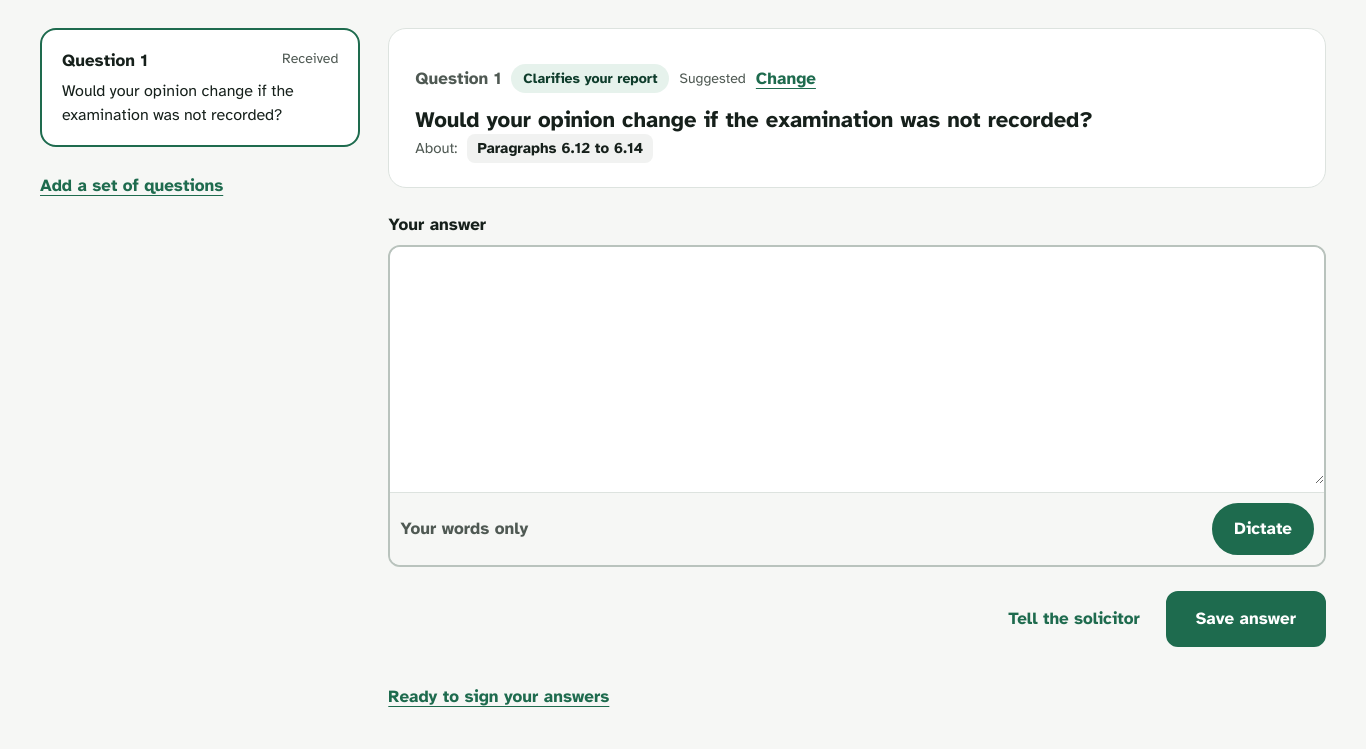
Scenario: when someone else changed the answer first, it asks which version to keep
(page scrolled)
Type "Mine" into the text box labelled "Your answer" at [857, 366], box [390,248,1324,484]
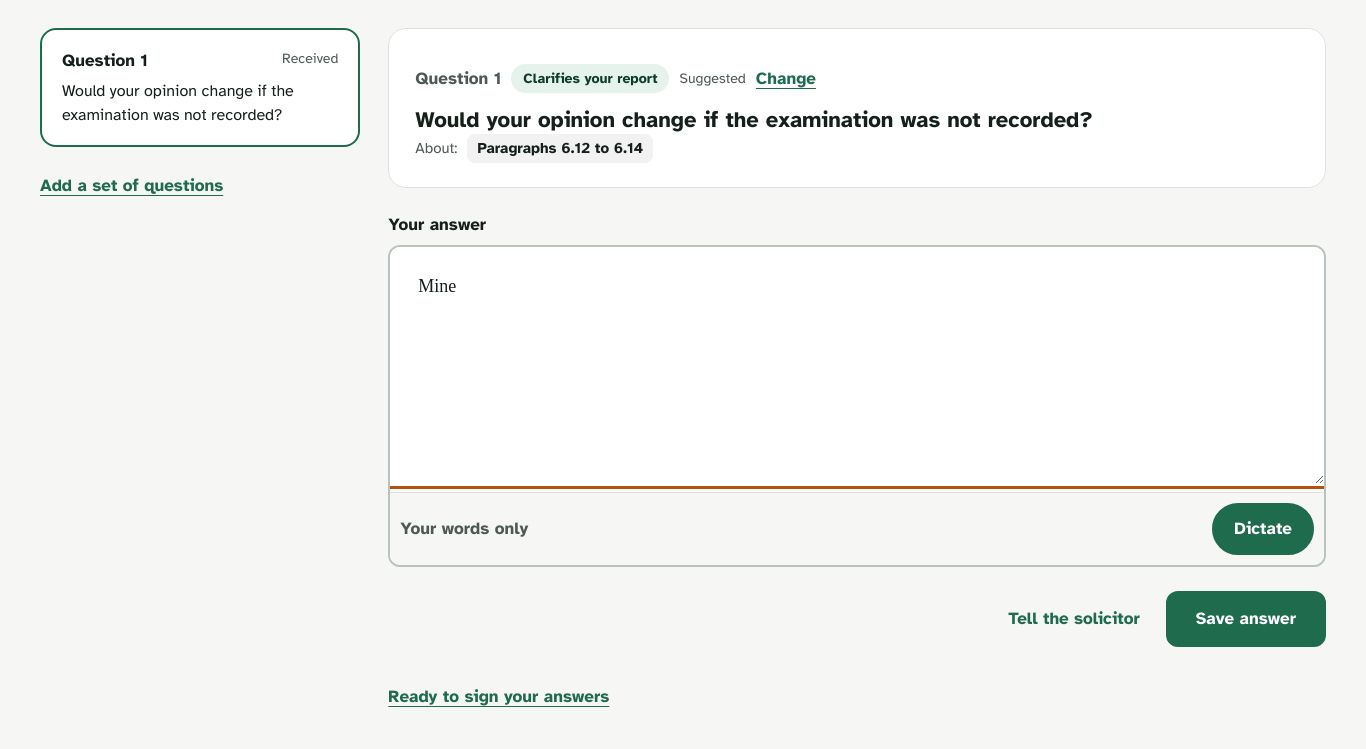
Click the button "Save answer" at [1246, 619], box [1166,591,1326,647]
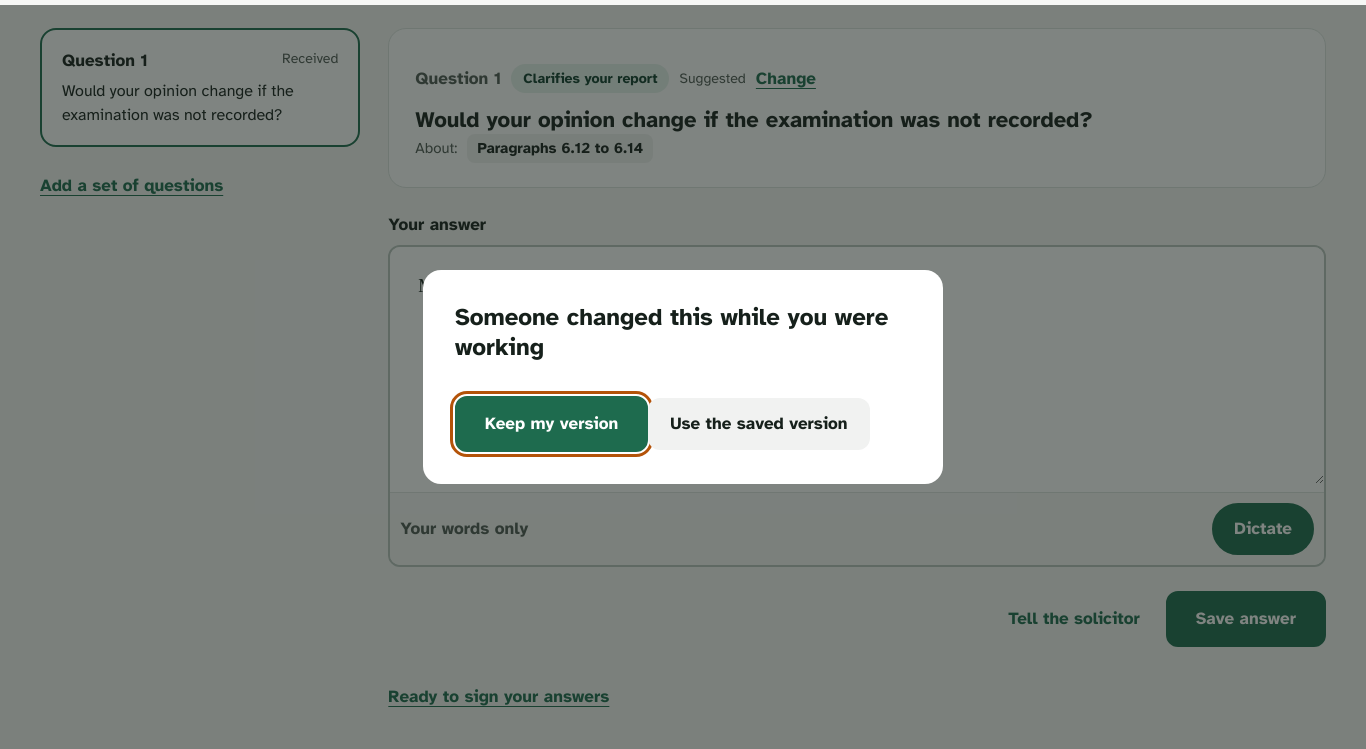
Expected: the button "Keep my version" is shown, [455,396,648,452]
Expected: the button "Use the saved version" is shown, [648,398,870,450]
